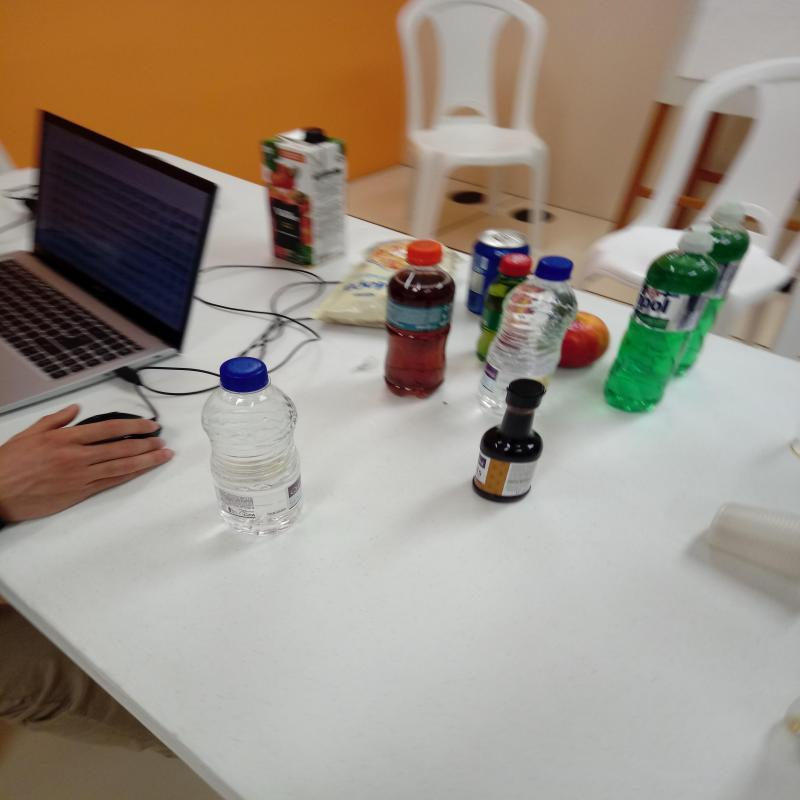Apple: (557, 310, 614, 368)
Cleaner: (598, 218, 745, 414), (678, 205, 752, 374)
CornFlakes: (323, 240, 460, 330)
EnglishSauce: (471, 380, 545, 502)
Guarana: (469, 254, 534, 364)
IceTea: (382, 241, 456, 400)
Tonic: (462, 229, 532, 316)
Water: (201, 359, 308, 536), (471, 253, 578, 412)
